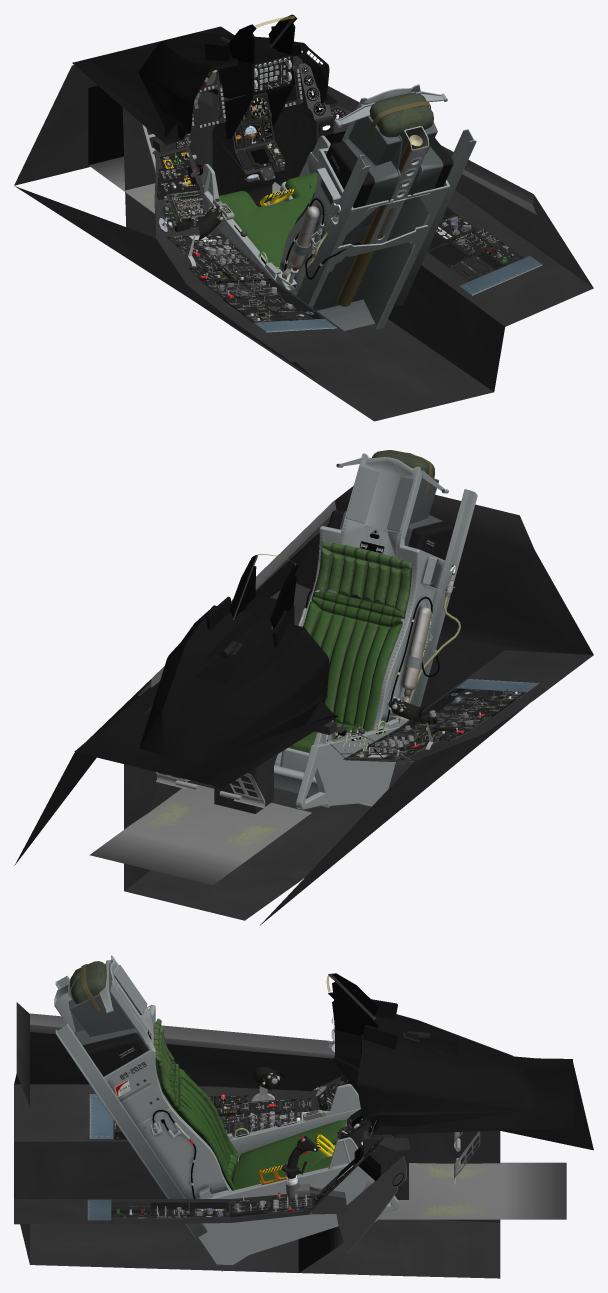
Rendered from f16_pit.glb.
3 renders of one model, top to bottom at view 1: azimuth 30°, elevation 25°; view 2: azimuth 150°, elevation 25°; view 3: azimuth 270°, elevation 25°, orthographic. The views are drawn at different scales.
Parts seen in each view (by area): view 1: COCKPIT, back-structure, poly, main-chute-container, rails, seat-cushion, floor, center-console, main-chute-extractor, bucket-structure, aircraft, cockpit_border (+14 smaller); view 2: COCKPIT, poly, back-cushion, floor, back-structure, bucket-structure, center_console, rails, main-chute-container, head-rest, hud_sides, center-console (+5 smaller); view 3: COCKPIT, poly, floor, back-structure, bucket-structure, back-cushion, main-chute-container, rails, cockpit_border, seat-cushion, RIGHT_AUX_CONSOLE.001, hud_sides (+13 smaller).
Part boxes in pixels (x1,y1,x2,y2): COCKPIT: (14,65,593,421); back-structure: (275,84,450,330); poly: (72,26,336,144); main-chute-container: (326,116,453,208); rails: (296,129,476,306); seat-cushion: (219,172,317,267); floor: (88,85,280,334); center-console: (212,91,281,206); main-chute-extractor: (368,93,433,137); bucket-structure: (198,135,330,291); aircraft: (205,44,327,138); cockpit_border: (327,86,536,214); COCKPIT: (14,486,593,925); poly: (74,605,338,787); back-cushion: (303,541,412,734); floor: (89,782,311,885); back-structure: (300,453,452,806); bucket-structure: (180,719,399,809); center_console: (191,596,294,684); rails: (396,489,477,764); main-chute-container: (328,475,453,560); head-rest: (346,466,415,531); hud_sides: (229,555,298,628); center-console: (214,754,277,813); COCKPIT: (14,1002,593,1278); poly: (357,1014,573,1134); floor: (235,1162,566,1273); back-structure: (54,955,248,1271); bucket-structure: (200,1084,398,1259); back-cushion: (153,1018,238,1190); main-chute-container: (68,963,149,1076); rails: (55,975,207,1239); cockpit_border: (30,1013,334,1058); seat-cushion: (232,1119,346,1189); RIGHT_AUX_CONSOLE.001: (336,1155,406,1252); hud_sides: (328,973,378,1036).
Size of what is drawn, in the model's own units: 1.24 by 1.17 by 2.17.
48 materials, 41 textured.
